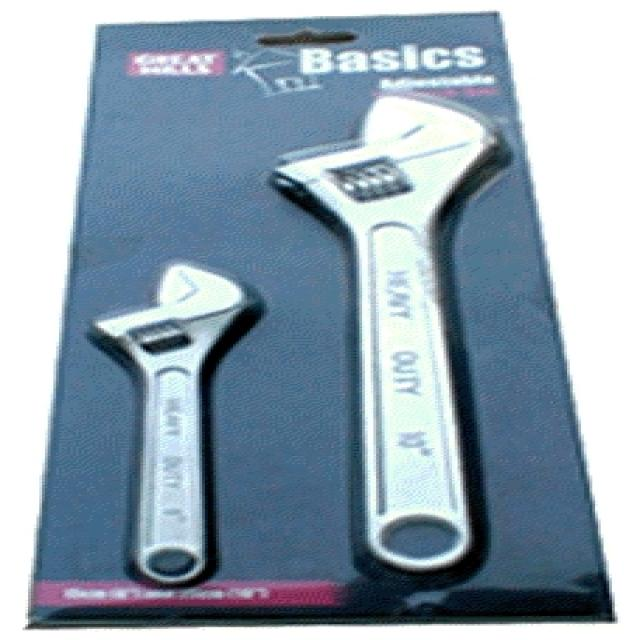wrench: (240, 79, 575, 588), (86, 229, 254, 596)
